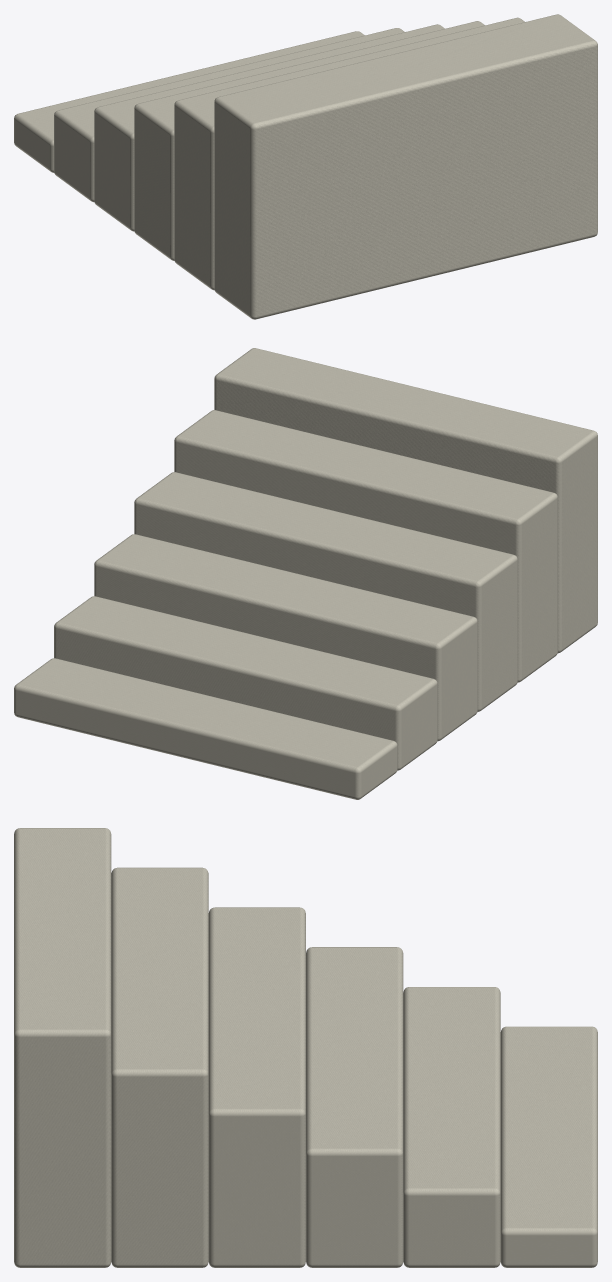
The model's file is arcane-academy-and-spell-trials-stair-ad759e80__28278.glb.
3 renders of one model, top to bottom at view 1: azimuth 30°, elevation 25°; view 2: azimuth 150°, elevation 25°; view 3: azimuth 270°, elevation 25°, orthographic. The views are drawn at different scales.
Visible parts, largest first — view 1: stair; view 2: stair; view 3: stair.
Part boxes in pixels (x1,y1,x2,y2): stair: (14, 14, 597, 319); stair: (14, 348, 597, 799); stair: (14, 828, 597, 1267).
Size of the model in its own units: 2 by 1.08 by 2.4.
1 material, 1 textured.
